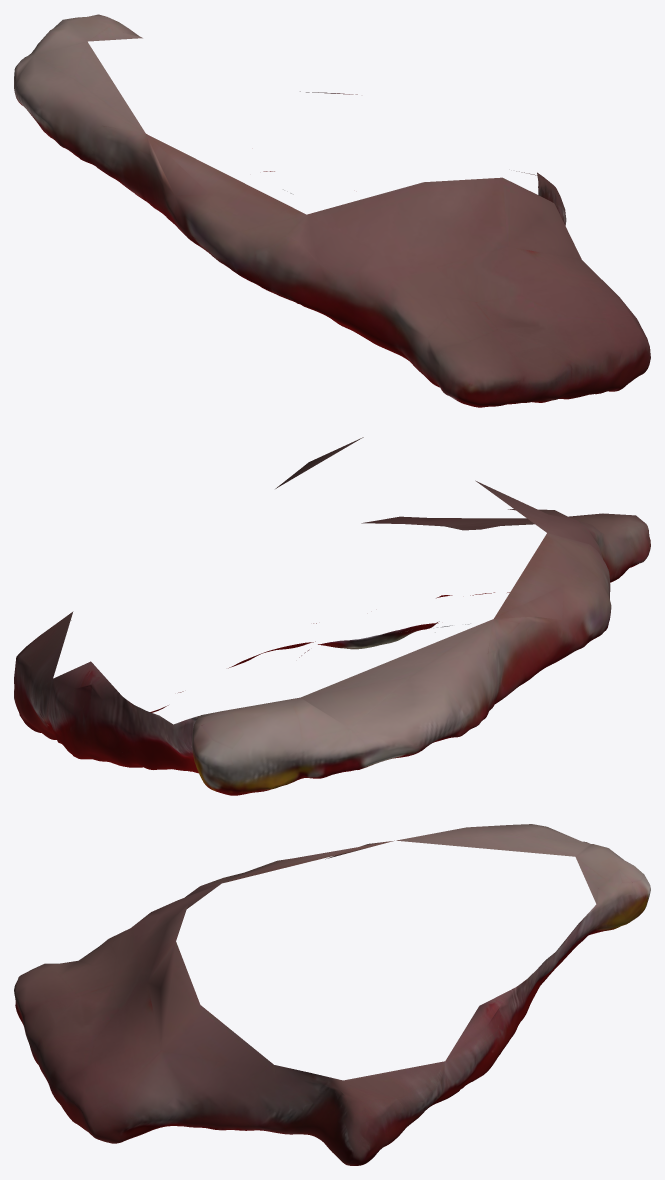
3 renders of one model, top to bottom at view 1: azimuth 30°, elevation 25°; view 2: azimuth 150°, elevation 25°; view 3: azimuth 270°, elevation 25°, orthographic. The views are drawn at different scales.
Bounding box in the file's own units: 0.4891 × 0.2221 × 0.7158.
1 material, 1 textured.
